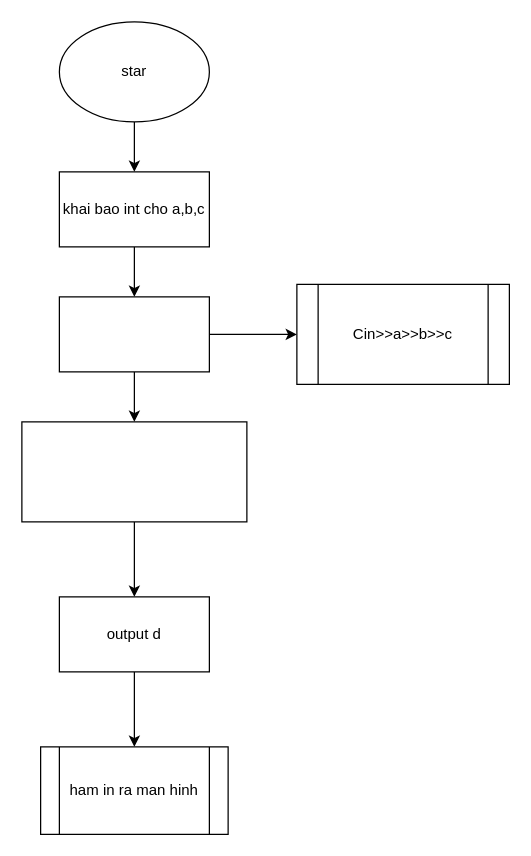
This 531x856 diagram has some shape labels left out. The shapes that lost their labels are listed below. From the top down, each one's box as (x1, y1, x2, y2) in pixels, then its label:
(58, 296, 209, 372): input a,b,c
(21, 421, 247, 522): d=a+b+c
